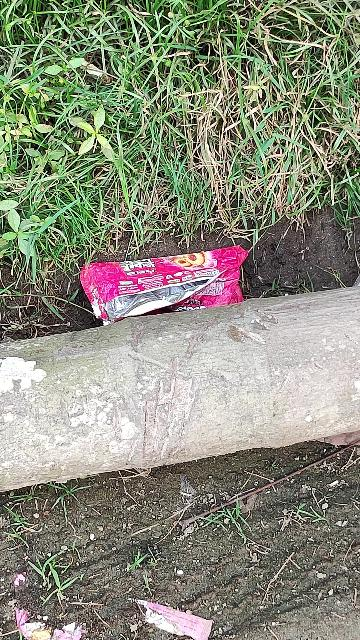packet: (72, 240, 258, 326)
